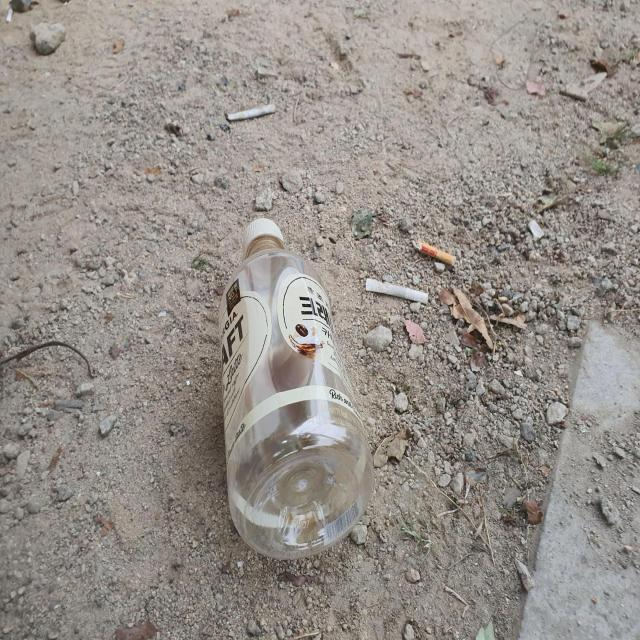plastic: (219, 218, 371, 559)
